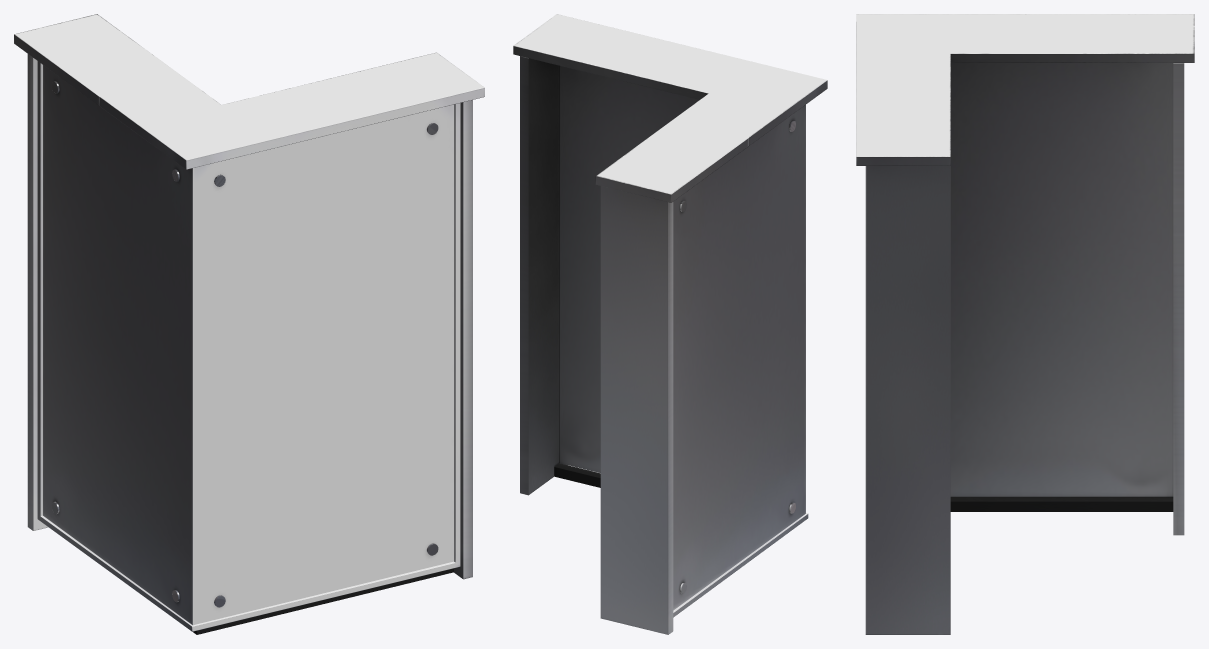
Rendered from calvi_corner_70_white_wood.glb.
3 renders of one model, left to right at view 1: azimuth 30°, elevation 25°; view 2: azimuth 150°, elevation 25°; view 3: azimuth 270°, elevation 25°, orthographic. The views are drawn at different scales.
Parts seen in each view (by area): view 1: calvi_corner_70-white; view 2: calvi_corner_70-white; view 3: calvi_corner_70-white.
Part boxes in pixels (x1,y1,x2,y2): calvi_corner_70-white: [14, 14, 484, 634]; calvi_corner_70-white: [513, 14, 827, 634]; calvi_corner_70-white: [856, 14, 1194, 634].
Bounding box in the file's own units: 0.6995 × 1.1 × 0.6995.
Materials: 1 (1 with a texture image).
